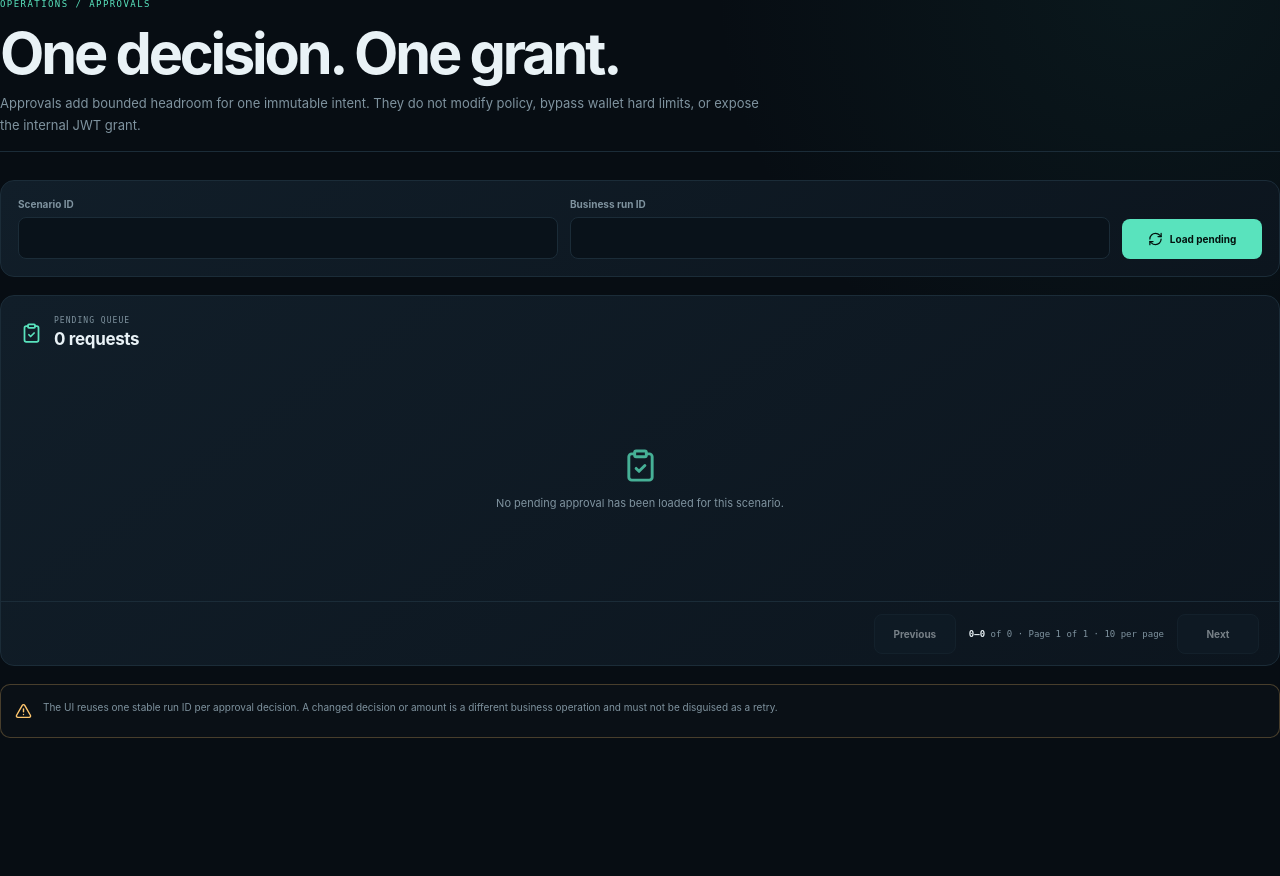
Test case: ApprovalsPage › loads pending approvals in ten-row pages
Type "scenario-1" into the field labelled "Scenario ID" at (288, 238), box [18, 217, 558, 259]
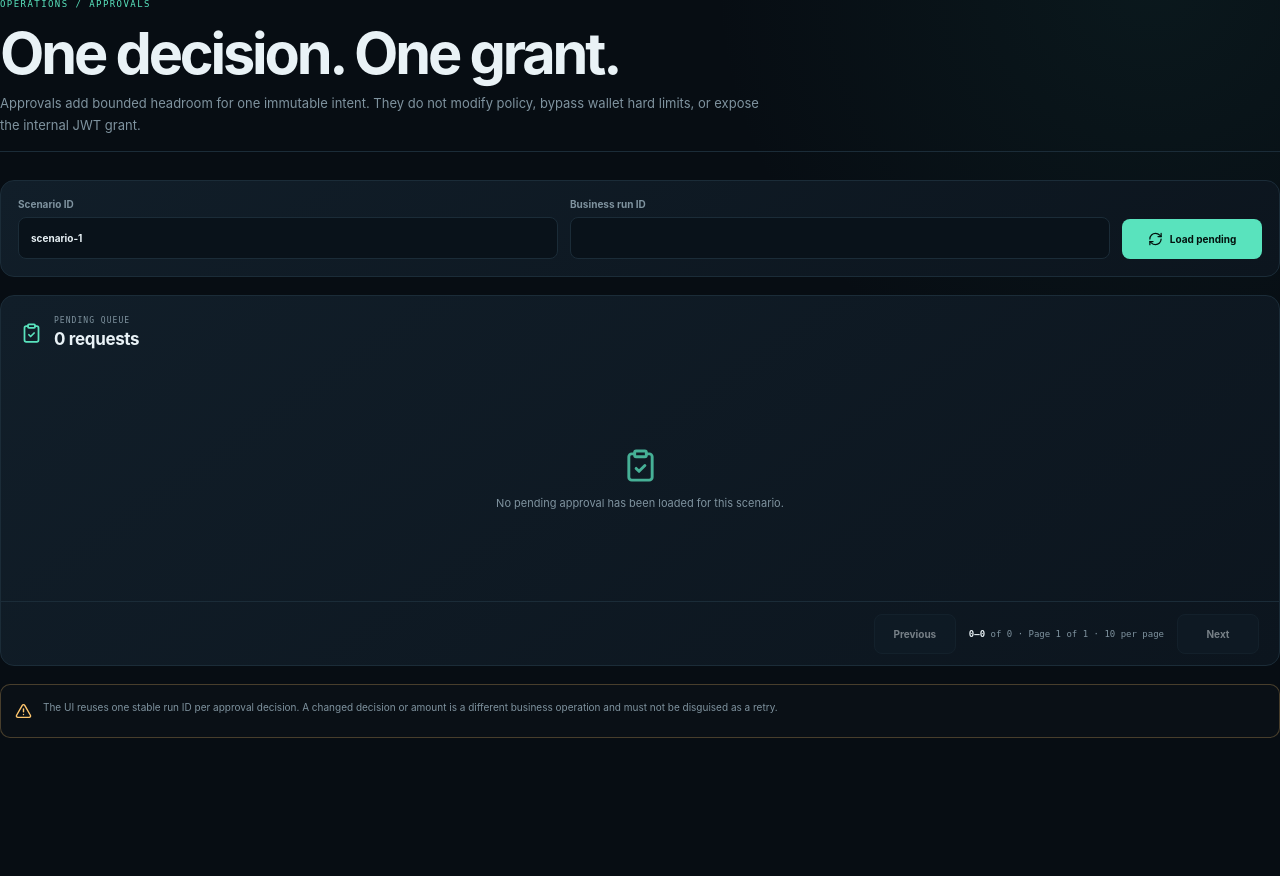
Type "run-1" into the field labelled "Business run ID" at (840, 238), box [570, 217, 1110, 259]
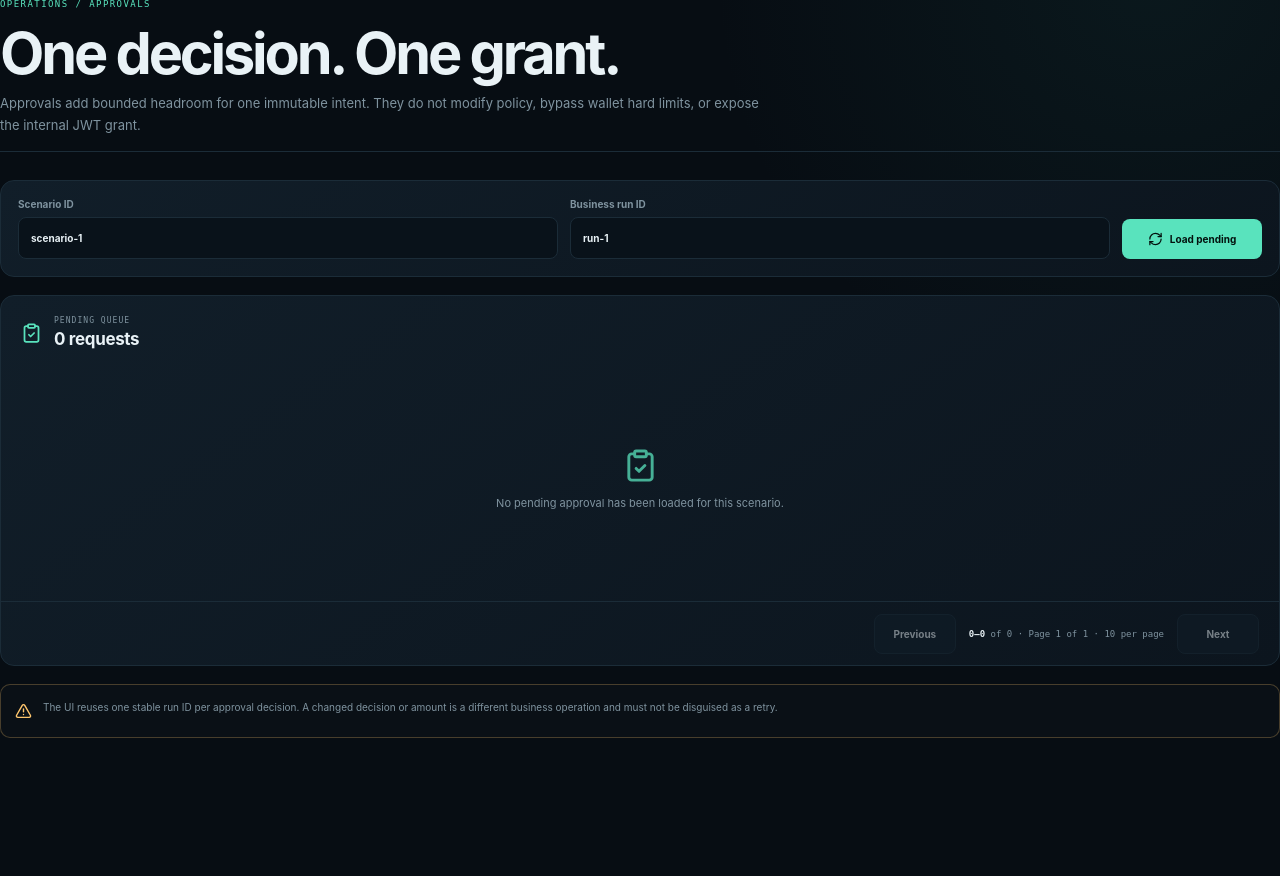
Click the button "Load pending" at (1192, 239), box [1122, 219, 1262, 259]
(page scrolled)
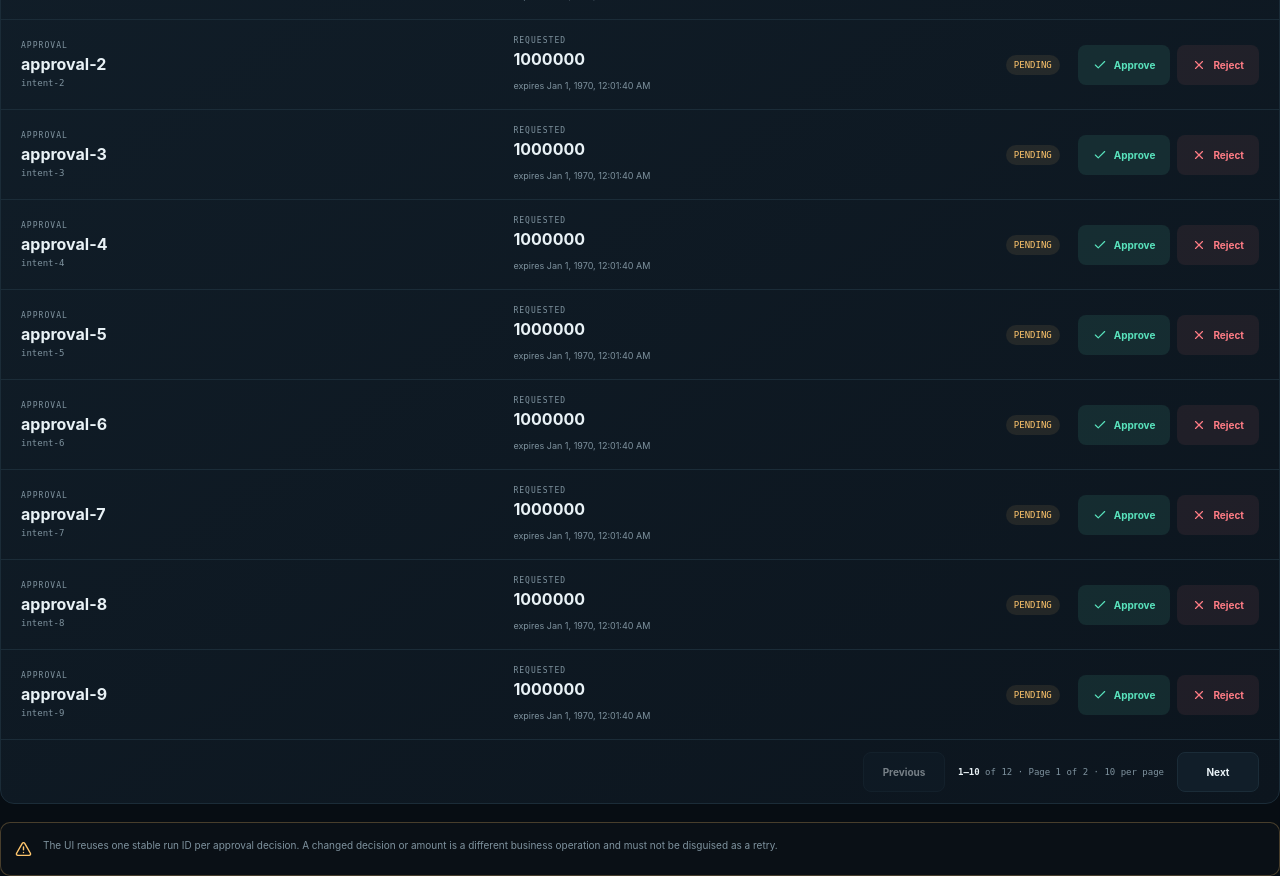
Result: the navigation bar named "Pending approvals pagination" shows "1–10 of 12" at [1, 739, 1279, 803]
Click the button "Next" at (1218, 772), box [1177, 752, 1259, 792]
(page scrolled)
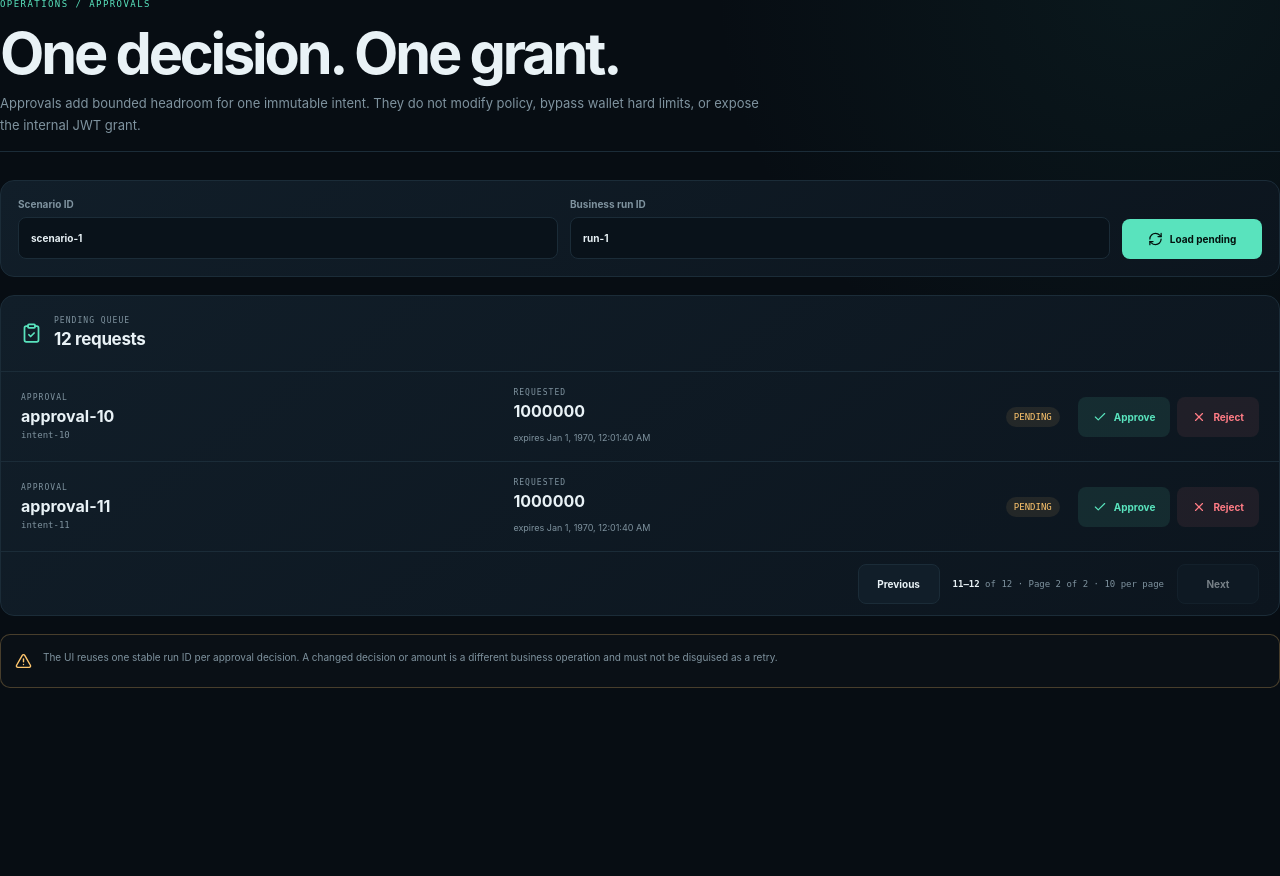
Result: the text "approval-10" is shown at [21, 406, 114, 426]
